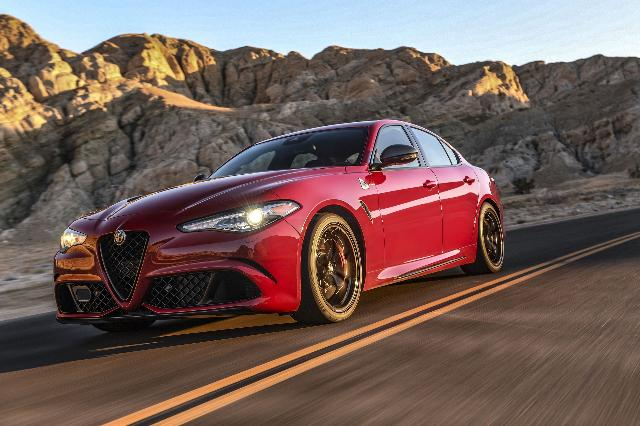alpha-romeo: (52, 118, 506, 326)
